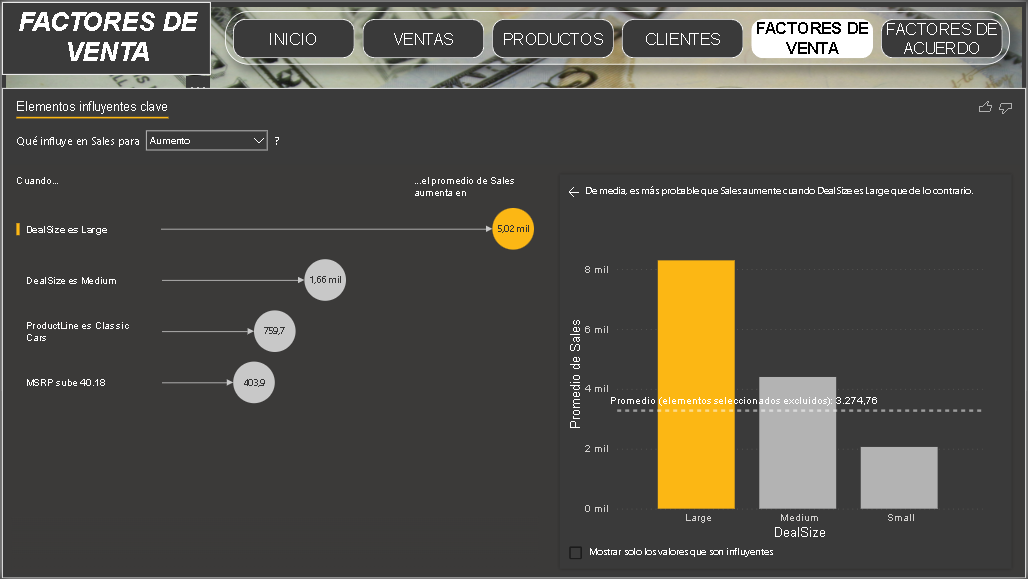

This screenshot's page, from the dashboard's own definition file:
{"tool":"powerbi","page":{"name":"FACTORES DE VENTA","canvas":[1280,720],"ordinal":4},"visuals":[{"type":"image","box":[0,1.5,1280,718.9],"z":0},{"type":"pageNavigator","box":[278.5,11.8,981.5,67],"z":1000},{"type":"textbox","box":[0,0,261,91.1],"z":2000},{"type":"keyDriversVisual","fields":{"ExplainBy":["PRODUCTS.ProductLine","ORDERS.DealSize","LOCATIONS.Country","PRODUCTS.MSRP"],"Target":["ORDERS.Sales"]},"box":[0,107.2,1279.9,612.8],"z":3000}]}

Visuals, with their boxes in screenshot pixels (x1, y1, x2, y2), scaled from the page's 1280x720 canvas onto the 1028x579 screenshot:
image: region(0, 1, 1027, 578)
pageNavigator: region(224, 9, 1012, 63)
textbox: region(0, 0, 210, 73)
keyDriversVisual - PRODUCTS.ProductLine x ORDERS.DealSize: region(0, 86, 1027, 578)
